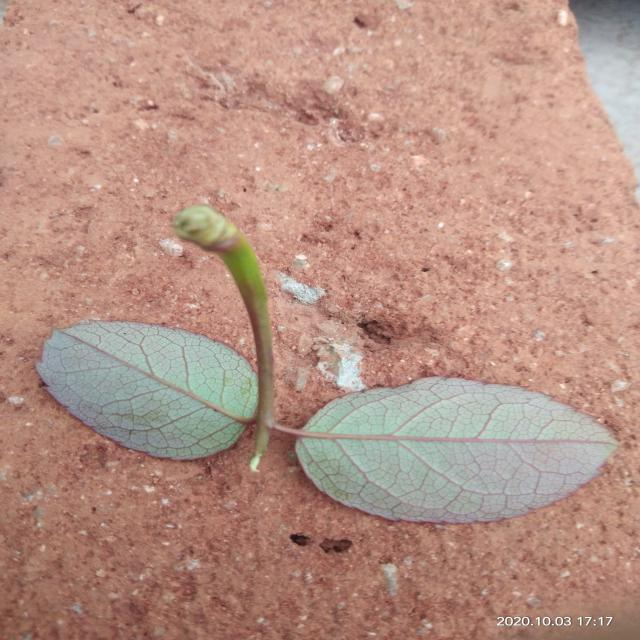rose: (37, 258, 617, 522)
